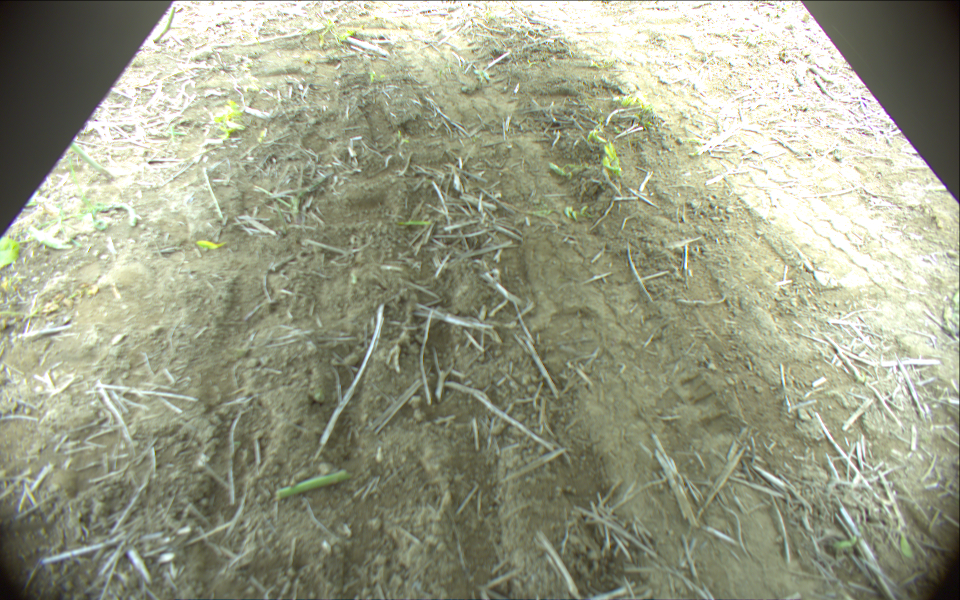aspa: (274, 469, 350, 499), (153, 4, 178, 45)
